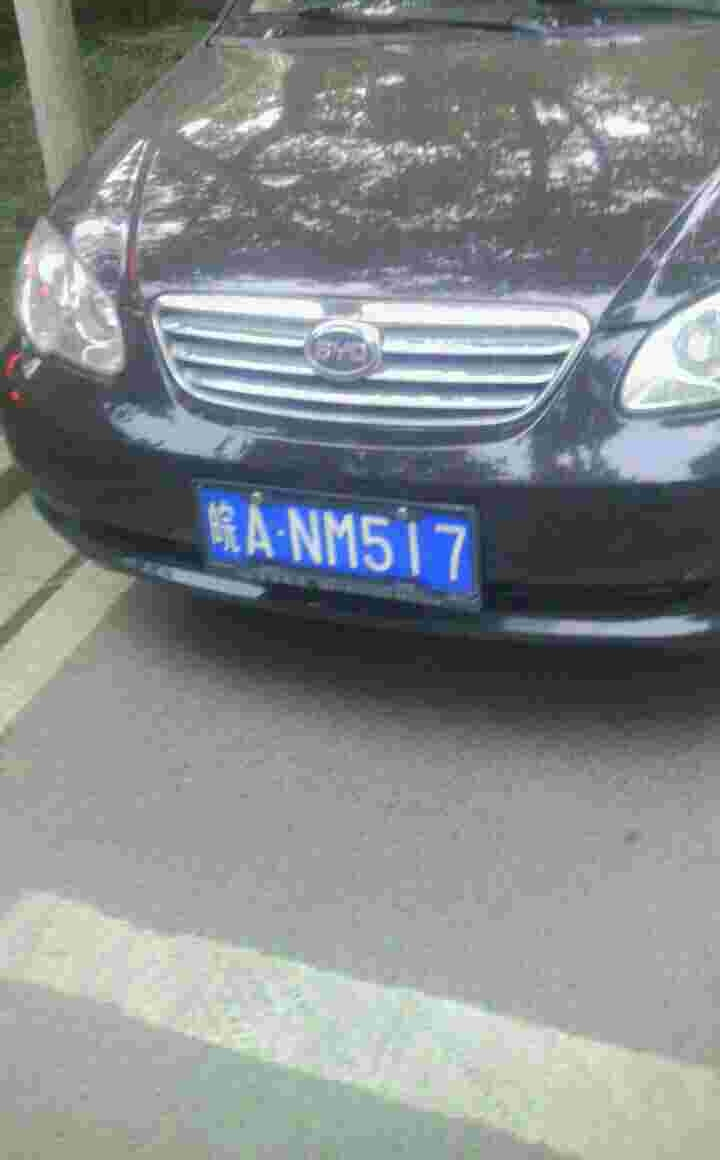license_plate: (207, 492, 472, 596)
